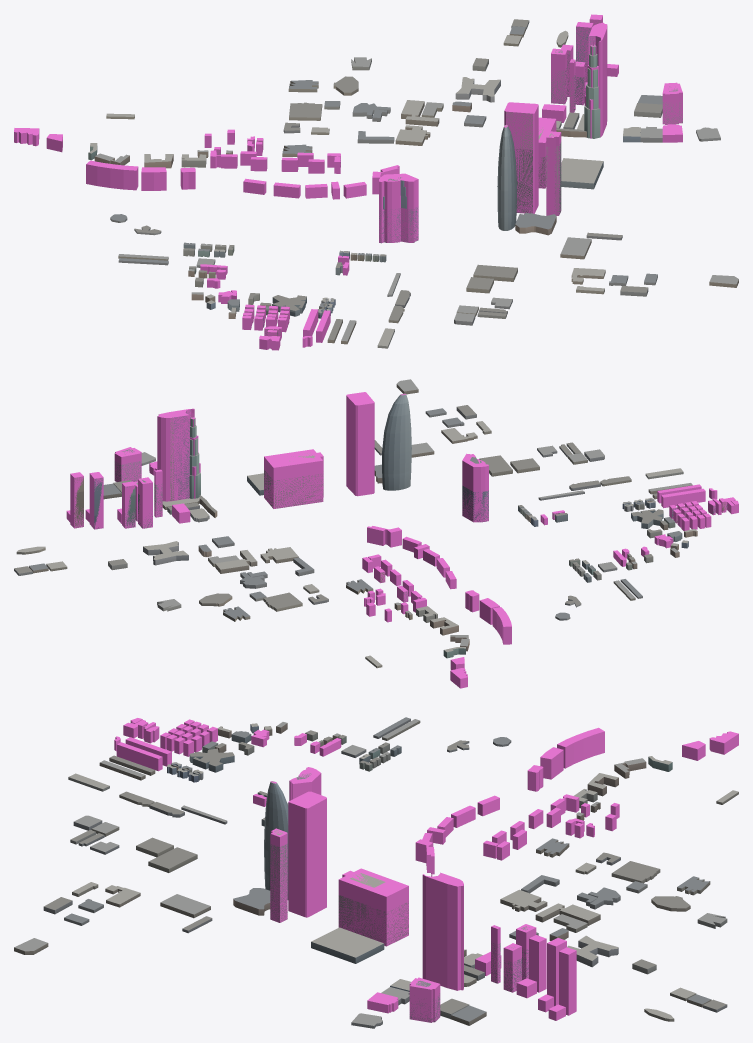
Rendered from bld_11_8.fbx.
The picture shows the model from 3 angles, top to bottom: view 1: azimuth 30°, elevation 25°; view 2: azimuth 150°, elevation 25°; view 3: azimuth 270°, elevation 25°; orthographic projection. The views are drawn at different scales.
Visible parts, largest first — view 1: bld_11_8_LOD0, bld_11_8_COL; view 2: bld_11_8_LOD0, bld_11_8_COL; view 3: bld_11_8_COL, bld_11_8_LOD0.
Part boxes in pixels (x1=…): bld_11_8_LOD0: x1=88, y1=19, x2=738, y2=348; bld_11_8_COL: x1=14, y1=14, x2=682, y2=350; bld_11_8_LOD0: x1=14, y1=379, x2=727, y2=668; bld_11_8_COL: x1=66, y1=392, x2=738, y2=688; bld_11_8_COL: x1=114, y1=718, x2=738, y2=1022; bld_11_8_LOD0: x1=14, y1=717, x2=738, y2=1028.
Size of what is drawn, in the model's own units: 2099 by 348 by 2079.
